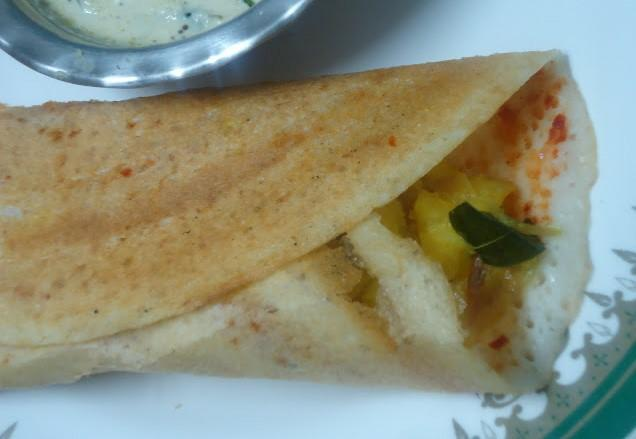CoconutChutney: (42, 0, 263, 45)
Dosa: (0, 51, 598, 393)
